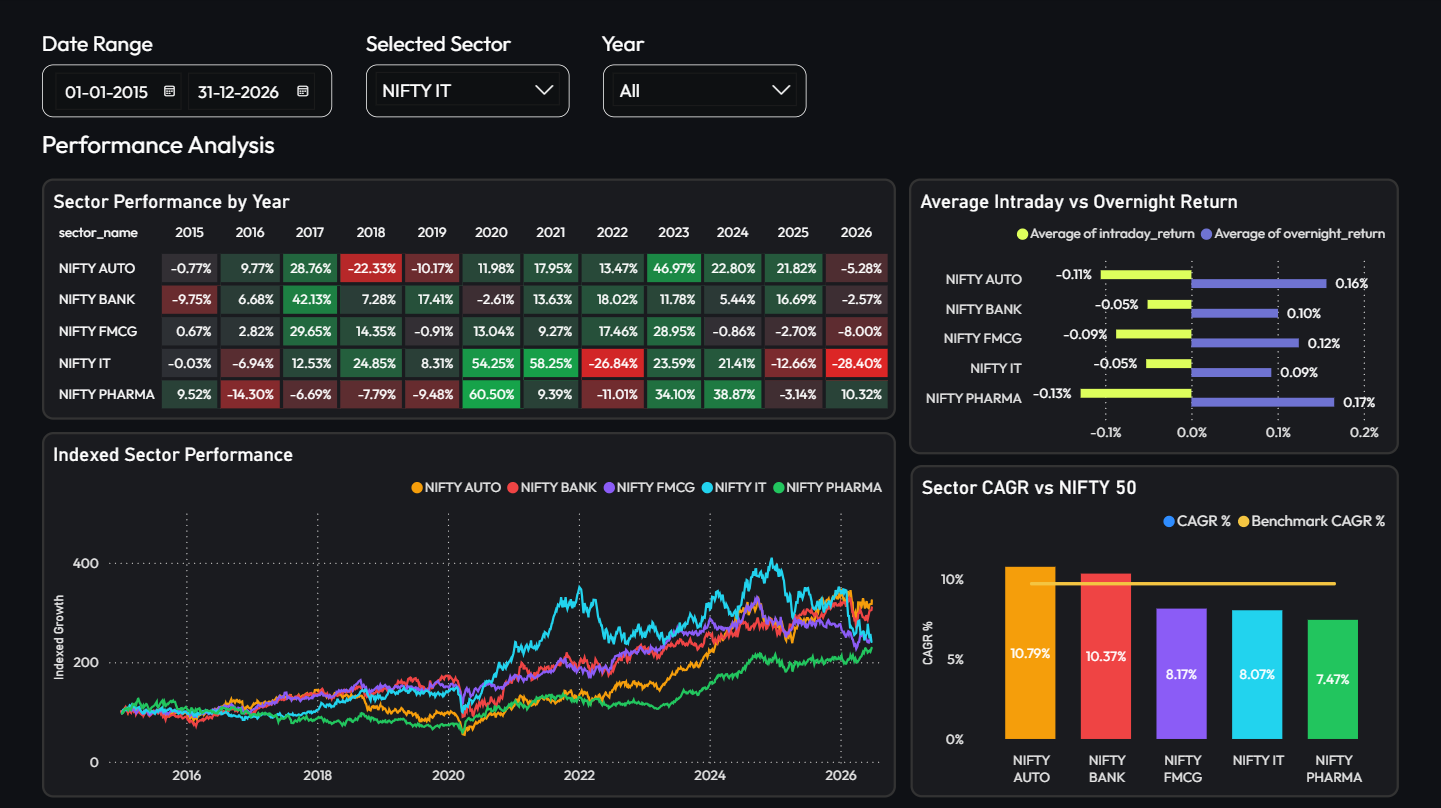

This screenshot's page, from the dashboard's own definition file:
{"tool":"powerbi","page":{"name":"Page 2","canvas":[1280,720],"ordinal":1},"visuals":[{"type":"slicer","fields":{"Values":["Date_Table.Date"]},"box":[40,60,256.7,46.7],"z":0},{"type":"textbox","box":[34,24,117,34.1],"z":1000},{"type":"textbox","box":[34,112,216.7,43.3],"z":2000},{"type":"slicer","fields":{"Values":["nifty_sector_dw dim_sector.sector_name"]},"box":[326,60,180,46.7],"z":3000},{"type":"textbox","box":[321.2,23.8,143.8,33.8],"z":4000},{"type":"slicer","fields":{"Values":["Date_Table.Year"]},"box":[536,60,180,46.7],"z":5000},{"type":"textbox","box":[530,24,132.9,34.1],"z":6000},{"type":"clusteredBarChart","title":"Average Intraday vs Overnight Return","fields":{"Category":["nifty_sector_dw dim_sector.sector_name"],"Y":["Avg(nifty_sector_dw vw_sector_prices_enriched.intraday_return)","Avg(nifty_sector_dw vw_sector_prices_enriched.overnight_return)"]},"box":[807,160,433,244],"z":6500},{"type":"pivotTable","title":"Sector Performance by Year","fields":{"Rows":["nifty_sector_dw dim_sector.sector_name"],"Values":["Measuress.Period Return %"],"Columns":["Date_Table.Year"]},"box":[40,160,755.6,213.3],"z":8000},{"type":"lineChart","title":"Indexed Sector Performance","fields":{"Category":["Date_Table.Date"],"Y":["Measuress.Indexed Growth"],"Series":["nifty_sector_dw dim_sector.sector_name"]},"box":[40,385,755,323.3],"z":9000},{"type":"lineClusteredColumnComboChart","title":"Sector CAGR vs NIFTY 50","fields":{"Category":["nifty_sector_dw dim_sector.sector_name"],"Y":["Measuress.CAGR %"],"Y2":["Measuress.Benchmark CAGR %"]},"box":[808,414,432,294],"z":10000}]}

Visuals, with their boxes in screenshot pixels (x1, y1, x2, y2), scaled from the page's 1280x720 canvas onto the 1441x808 screenshot:
slicer - Date_Table.Date: 45/67/334/120
textbox: 38/27/170/65
textbox: 38/126/282/174
slicer - nifty_sector_dw dim_sector.sector_name: 367/67/570/120
textbox: 362/27/523/65
slicer - Date_Table.Year: 603/67/806/120
textbox: 597/27/746/65
"Average Intraday vs Overnight Return" clusteredBarChart: 909/180/1396/453
"Sector Performance by Year" pivotTable: 45/180/896/419
"Indexed Sector Performance" lineChart: 45/432/895/795
"Sector CAGR vs NIFTY 50" lineClusteredColumnComboChart: 910/465/1396/795
